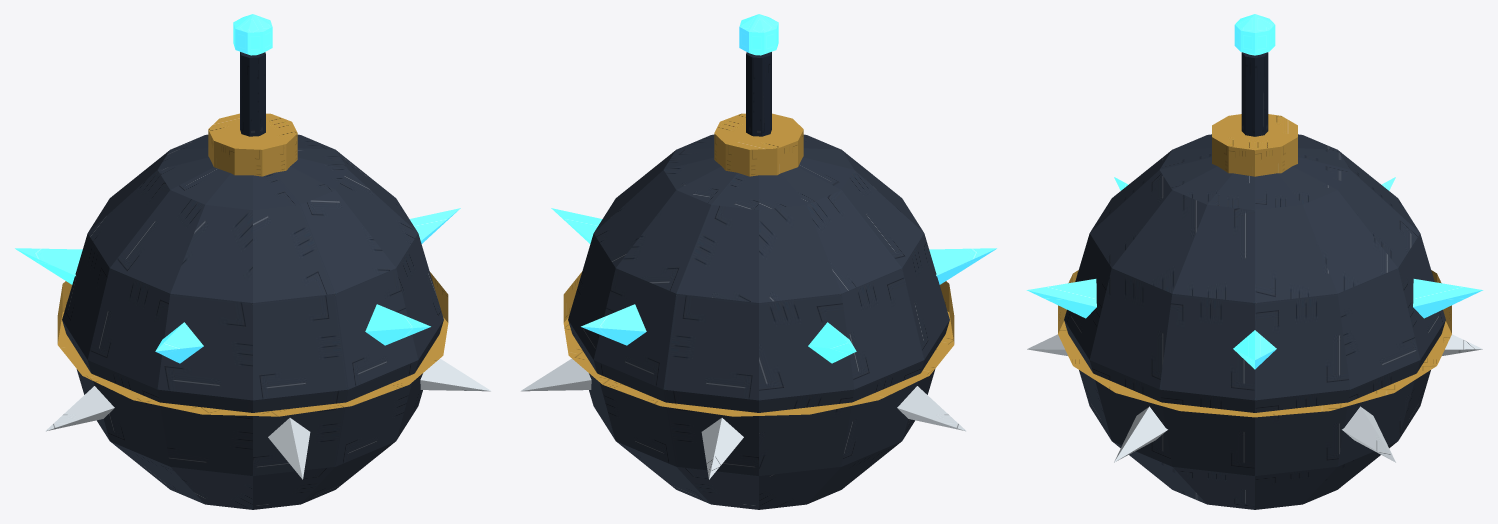
File: shard.glb
The picture shows the model from 3 angles, left to right: view 1: azimuth 30°, elevation 25°; view 2: azimuth 150°, elevation 25°; view 3: azimuth 270°, elevation 25°; orthographic projection.
Visible parts, largest first — view 1: body, fuse; view 2: body, fuse; view 3: body, fuse.
Boxes of the visible parts, x1,y1,x2,y2 form: body: (15, 113, 491, 509); fuse: (233, 14, 272, 136); body: (520, 113, 996, 509); fuse: (739, 14, 778, 136); body: (1026, 114, 1483, 509); fuse: (1234, 14, 1275, 136).
Size of the model in its own units: 0.2879 by 0.3165 by 0.2738.
Materials: 5 (5 with a texture image).
